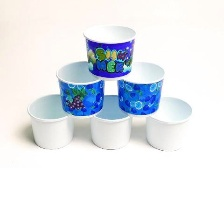paper_cup: (78, 19, 139, 81), (52, 57, 108, 119), (143, 91, 196, 155), (84, 92, 137, 154), (25, 90, 78, 152), (114, 59, 167, 118)
